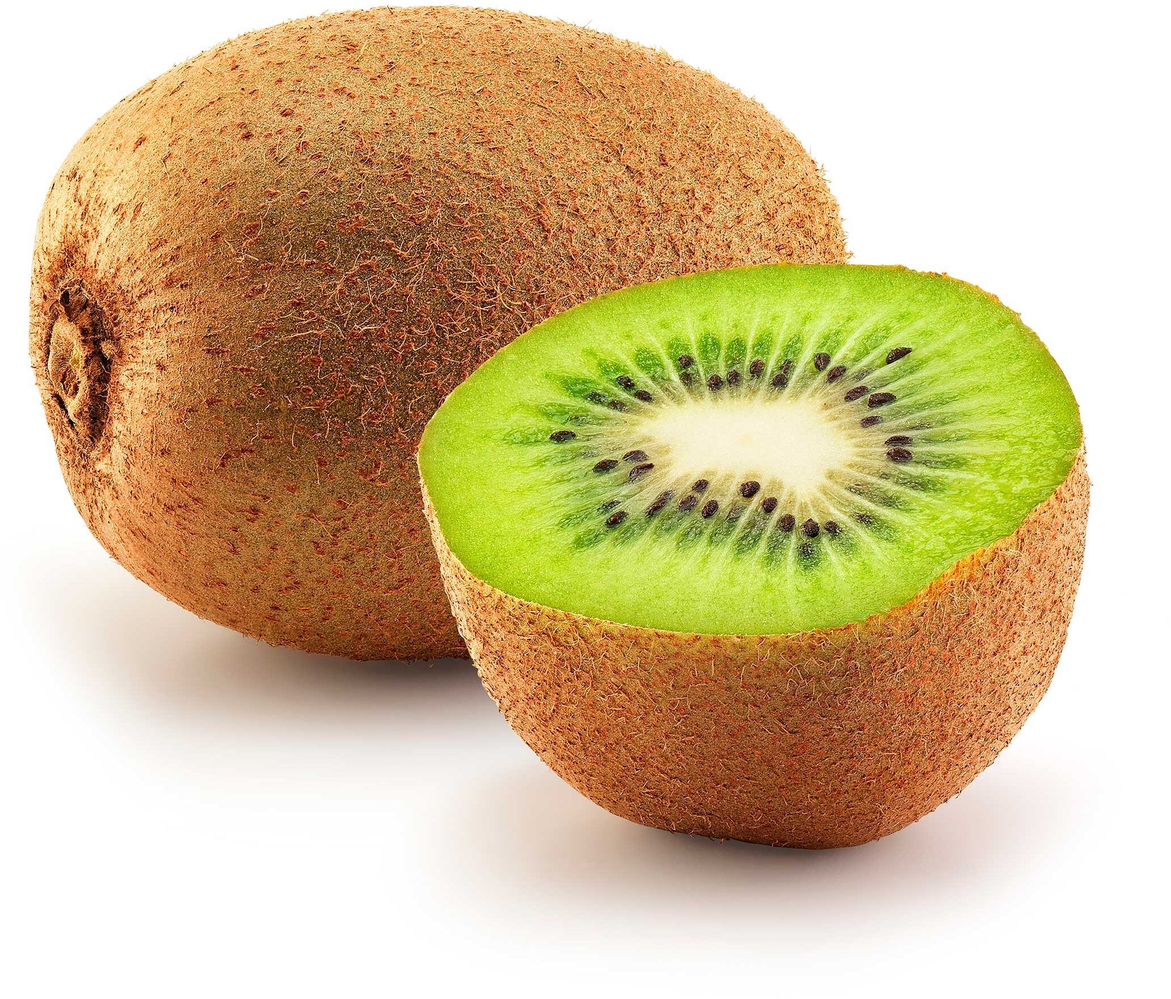Kiwi: (59, 50, 1112, 949)
